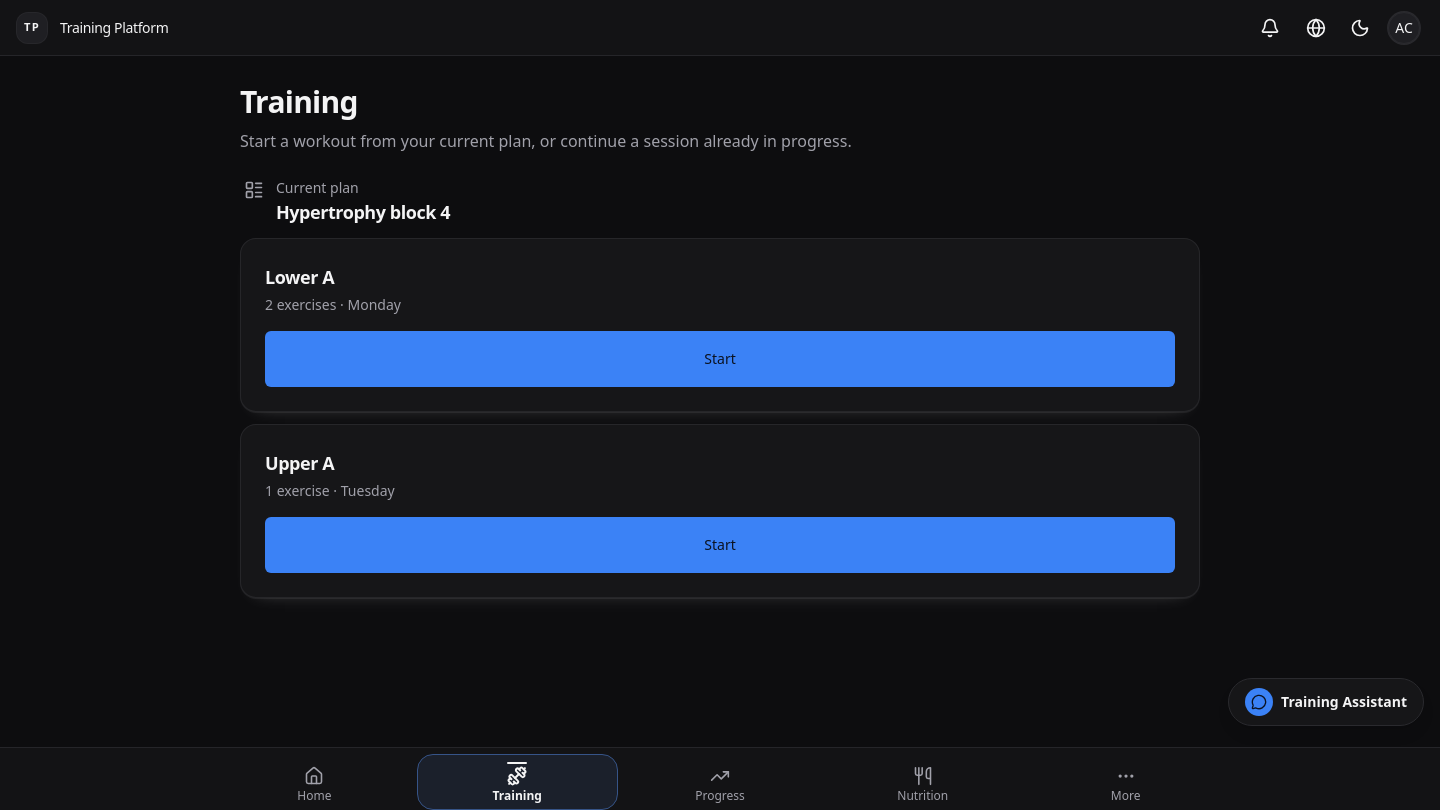
it: Workout experience › maps a start conflict without leaking internals
Expected: the heading "Training" is shown, [240,81,358,122]
Click the button "Start" below "Lower A" at (720, 359), box [265,331,1175,387]
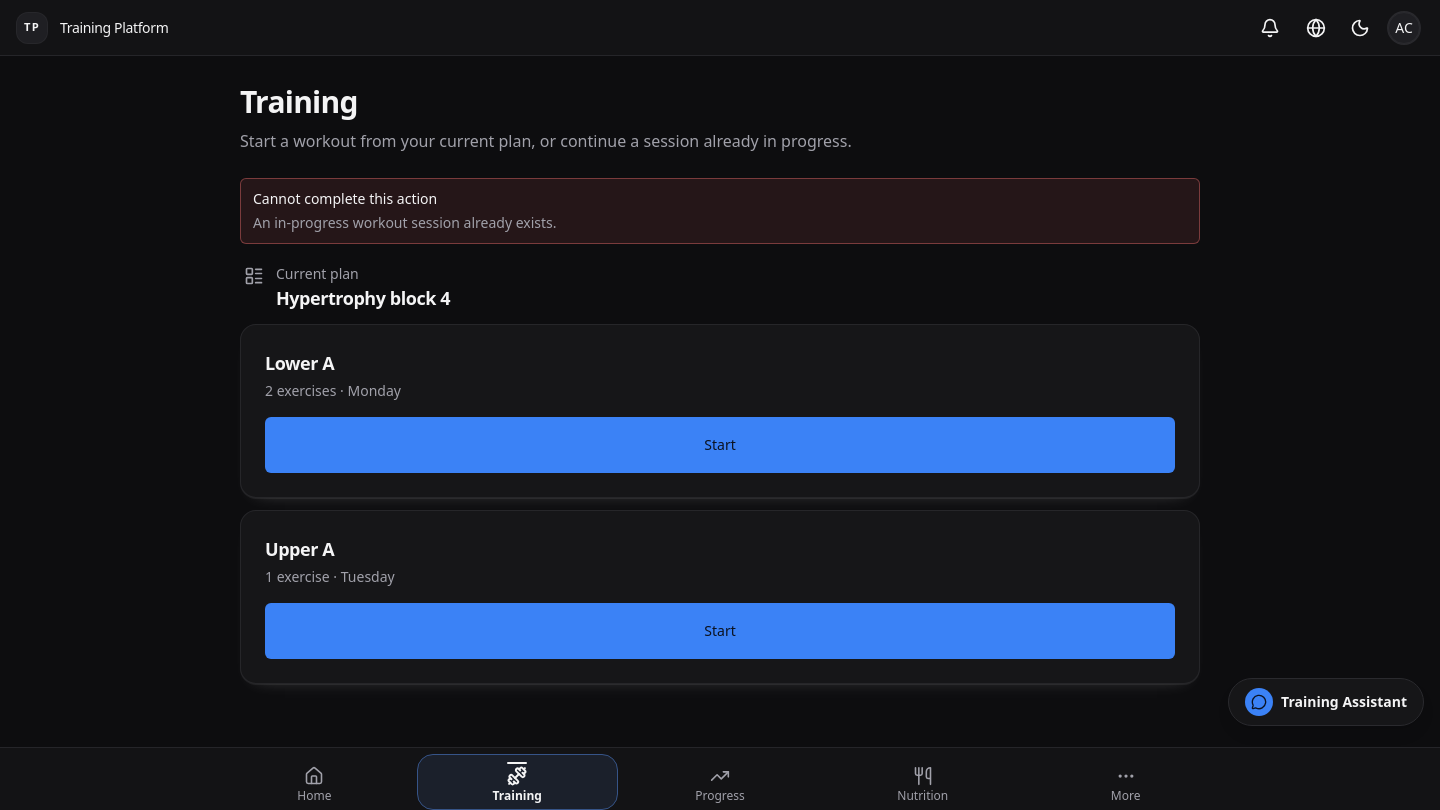
Now the text "Cannot complete this action" is shown, box [253,189,437,208]
Now the text "An in-progress workout session already exists." is shown, box [253,213,556,232]
